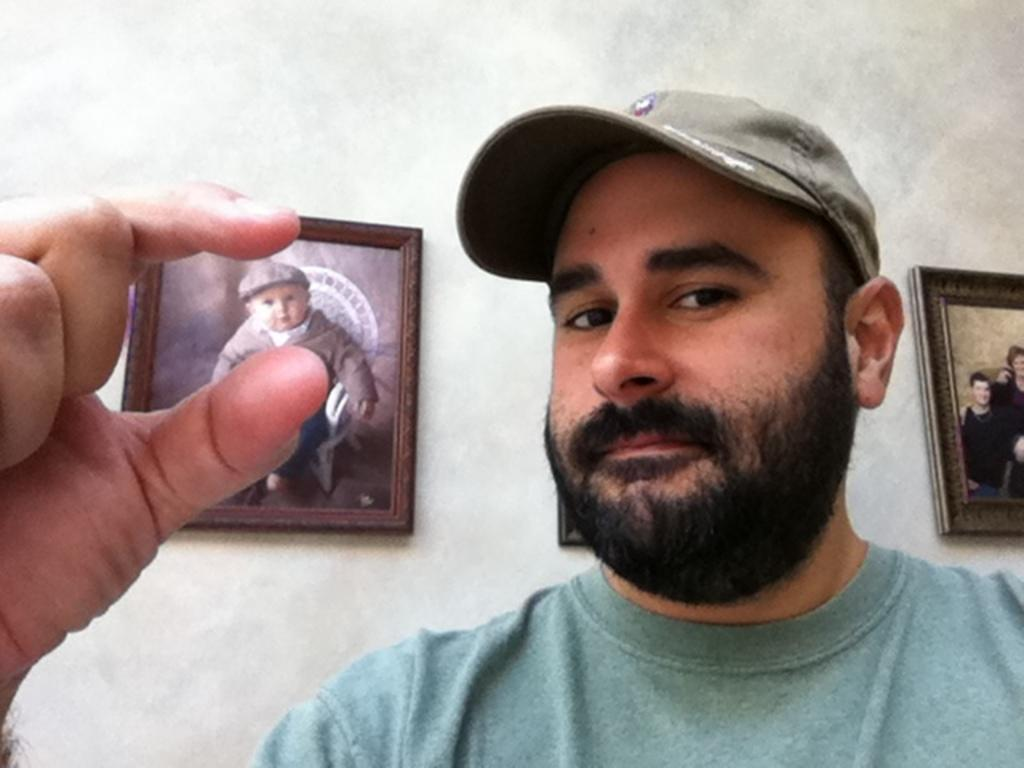Hat: (456, 88, 882, 284)
